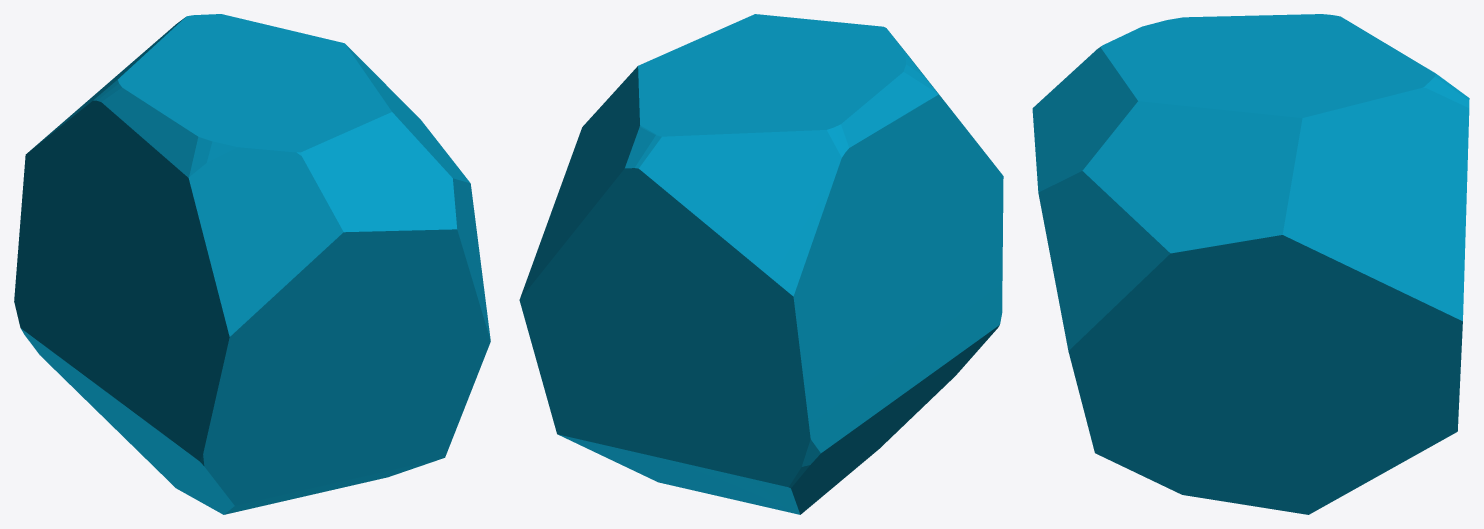
File: Pedra.fbx
The picture shows the model from 3 angles, left to right: view 1: azimuth 30°, elevation 25°; view 2: azimuth 150°, elevation 25°; view 3: azimuth 270°, elevation 25°; orthographic projection.
Parts seen in each view (by area): view 1: Sphere.001; view 2: Sphere.001; view 3: Sphere.001.
Part boxes in pixels (left/top/right/bottom): Sphere.001: left=14, top=14, right=490, bottom=514; Sphere.001: left=519, top=14, right=1003, bottom=514; Sphere.001: left=1032, top=14, right=1469, bottom=514.
Size of the model in its own units: 19.08 by 23.37 by 22.65.
Materials: 1 (1 with a texture image).
